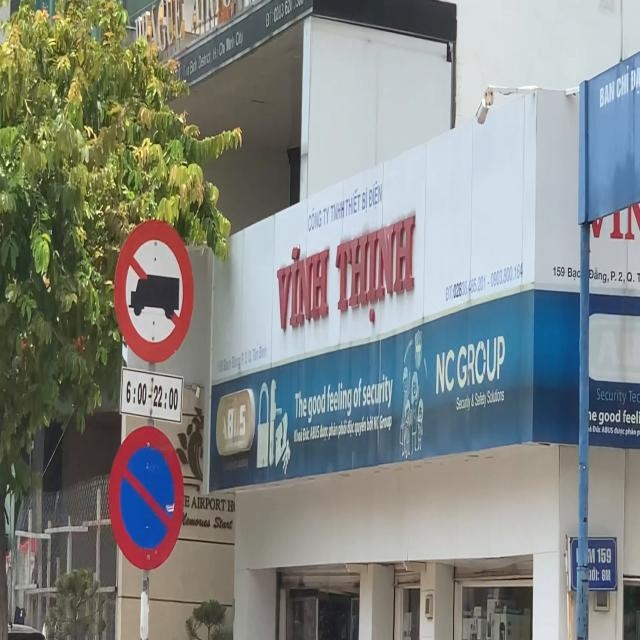bien_cam: (114, 217, 199, 366), (108, 424, 189, 572)
